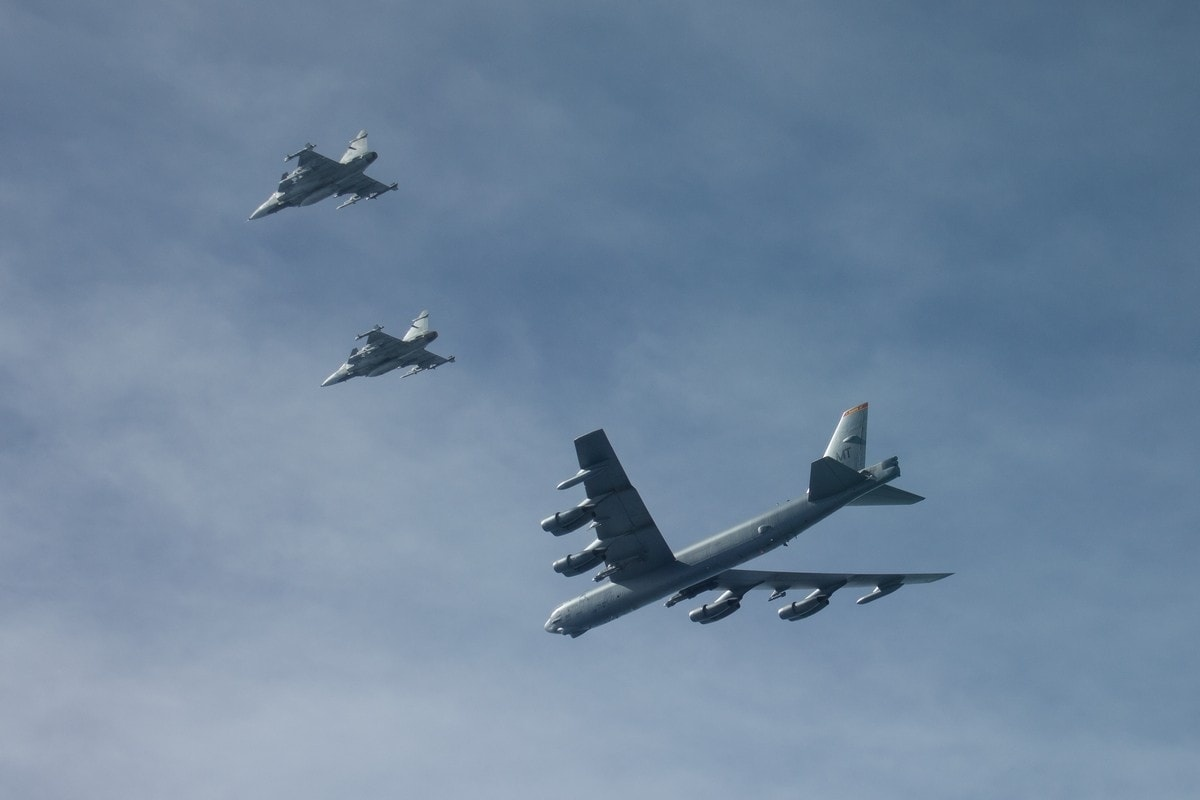B52: (540, 402, 956, 639)
JAS39: (243, 128, 399, 224), (319, 309, 456, 388)
